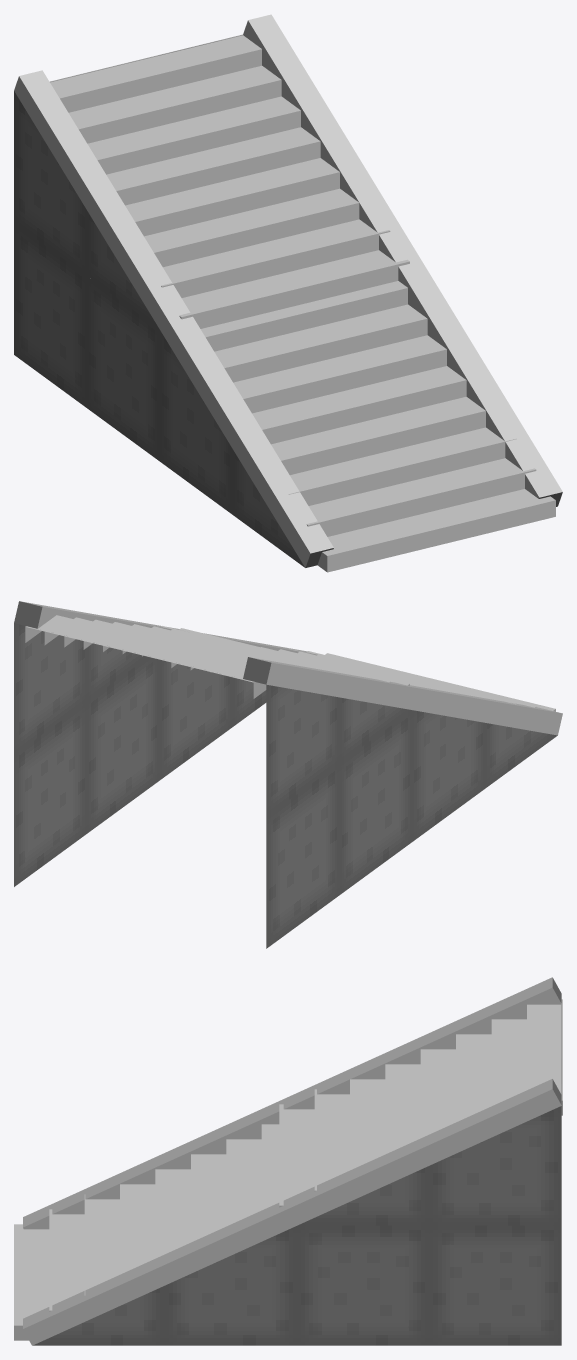
File: stairs_vert_64x128x64.obj
3 renders of one model, top to bottom at view 1: azimuth 30°, elevation 25°; view 2: azimuth 150°, elevation 25°; view 3: azimuth 270°, elevation 25°, orthographic. The views are drawn at different scales.
Parts seen in each view (by area): view 1: Cube.016_Cube.020, Ceiling_Plane.002, Plane.017_Wall; view 2: Ceiling_Plane.002, Plane.017_Wall, Plane.018_Wall, Cube.016_Cube.020; view 3: Ceiling_Plane.002, Cube.016_Cube.020, Plane.018_Wall.
Boxes of the visible parts, box(x1,y1,x2,y2) form: Cube.016_Cube.020: box(50, 34, 555, 572); Ceiling_Plane.002: box(14, 14, 562, 567); Plane.017_Wall: box(14, 223, 159, 460); Ceiling_Plane.002: box(14, 601, 562, 841); Plane.017_Wall: box(266, 710, 412, 948); Plane.018_Wall: box(14, 657, 159, 886); Cube.016_Cube.020: box(25, 615, 555, 711); Ceiling_Plane.002: box(23, 977, 561, 1345); Cube.016_Cube.020: box(14, 999, 562, 1340); Plane.018_Wall: box(297, 1225, 561, 1345).
Bounding box in the file's own units: 64 × 68.44 × 133.
